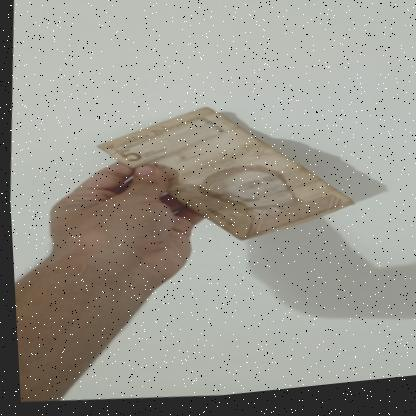five-front-vef: (86, 91, 362, 265)
